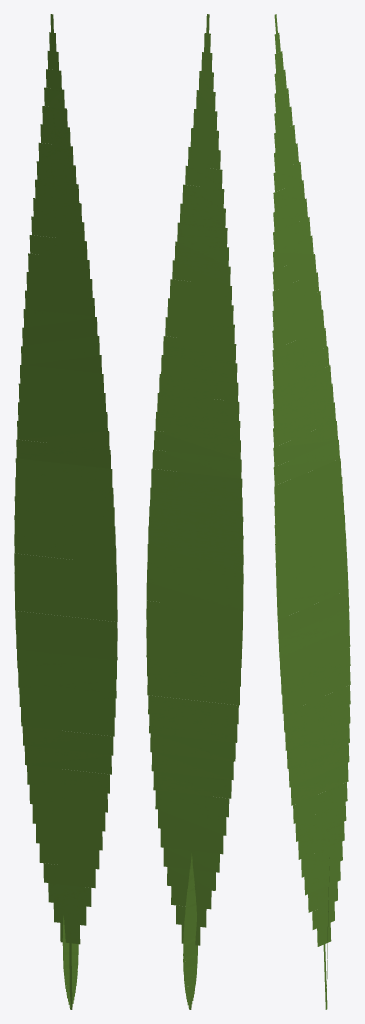
File: maize_002_day_025.dae
3 views of the same model, side by side, from view 1: azimuth 30°, elevation 25°; view 2: azimuth 210°, elevation 25°; view 3: azimuth 270°, elevation 25° (orthographic). The views are drawn at different scales.
Visible parts, largest first — view 1: node; view 2: node; view 3: node.
Boxes of the visible parts, left/top/right/bottom form: node: left=14, top=14, right=117, bottom=1009; node: left=146, top=14, right=243, bottom=1009; node: left=272, top=14, right=350, bottom=1009.
Size of the model in its own units: 0.0105 by 0.1439 by 0.0105.
1 material, 1 textured.
